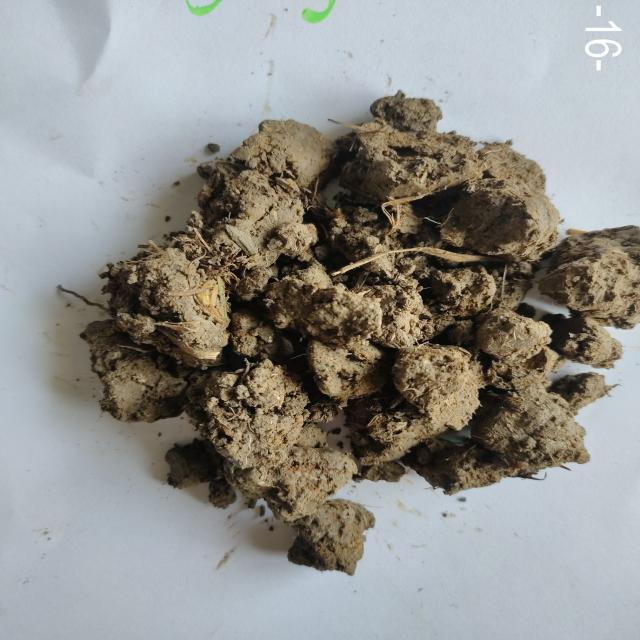soil: (224, 173, 553, 449)
